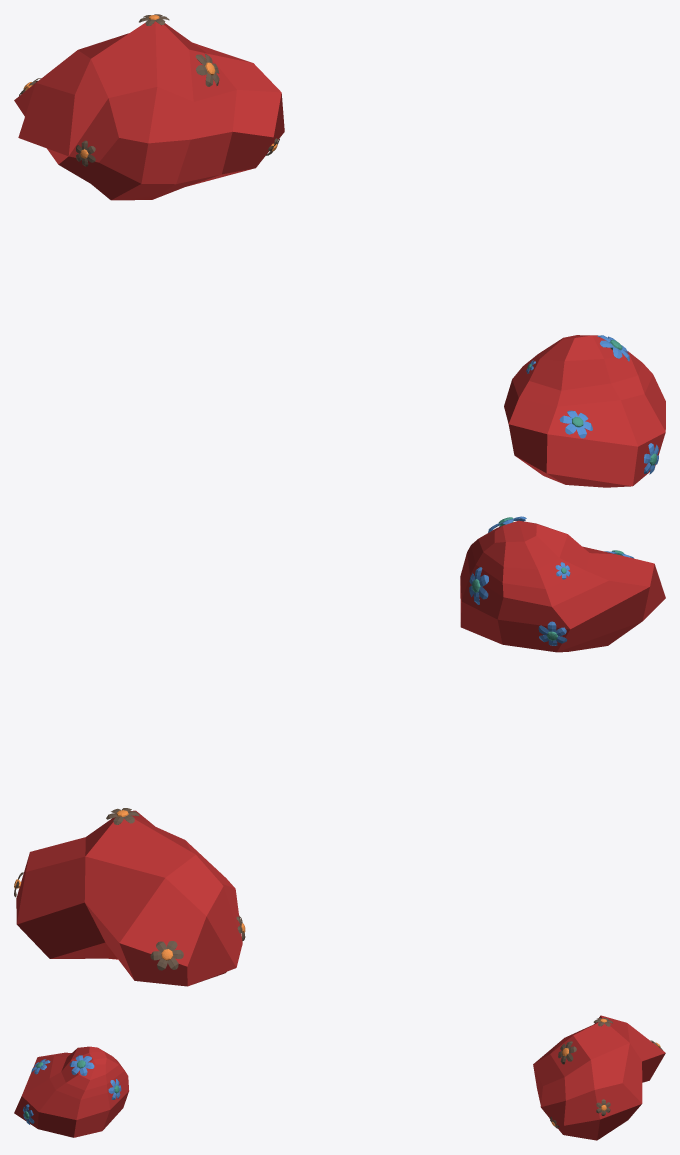
The model's file is Patio_Bushes.fbx.
3 views of the same model, one above another, from view 1: azimuth 30°, elevation 25°; view 2: azimuth 150°, elevation 25°; view 3: azimuth 270°, elevation 25° (orthographic). The views are drawn at different scales.
Visible parts, largest first — view 1: Patio_Bushes; view 2: Patio_Bushes; view 3: Patio_Bushes.
Boxes of the visible parts, bbox=[...] form: Patio_Bushes: bbox=[14, 14, 665, 487]; Patio_Bushes: bbox=[14, 516, 665, 986]; Patio_Bushes: bbox=[14, 1015, 665, 1140].
Size of the model in its own units: 127 by 85.59 by 507.
